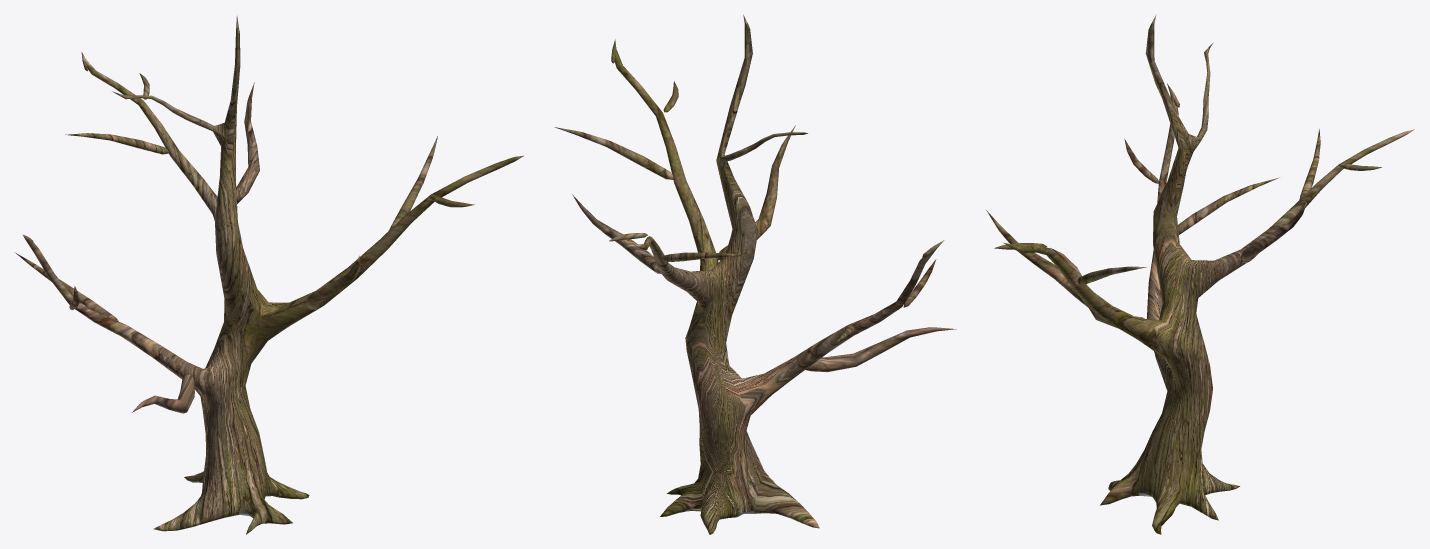
Rendered from trunk1.fbx.
3 renders of one model, left to right at view 1: azimuth 30°, elevation 25°; view 2: azimuth 150°, elevation 25°; view 3: azimuth 270°, elevation 25°, orthographic. The views are drawn at different scales.
Visible parts, largest first — view 1: Line01; view 2: Line01; view 3: Line01.
Part boxes in pixels (bbox=[...]): Line01: bbox=[14, 15, 523, 534]; Line01: bbox=[554, 14, 956, 534]; Line01: bbox=[986, 14, 1414, 534].
Size of the model in its own units: 30.57 by 35.07 by 28.14.
